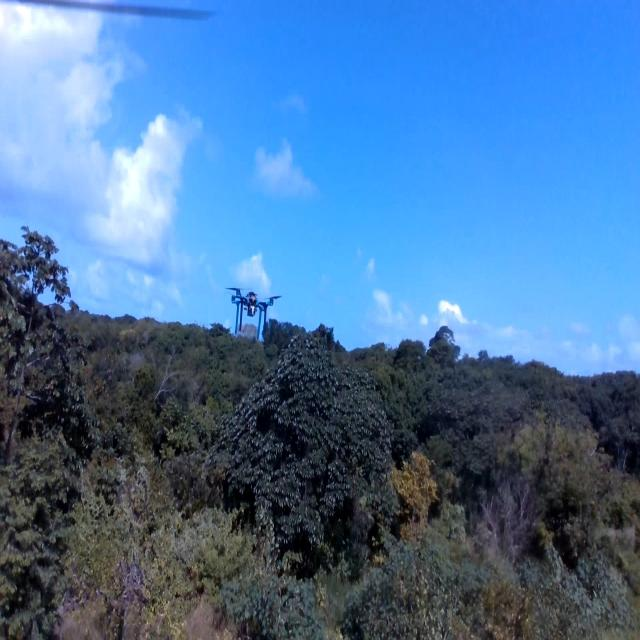-uav-: (218, 258, 284, 369)
